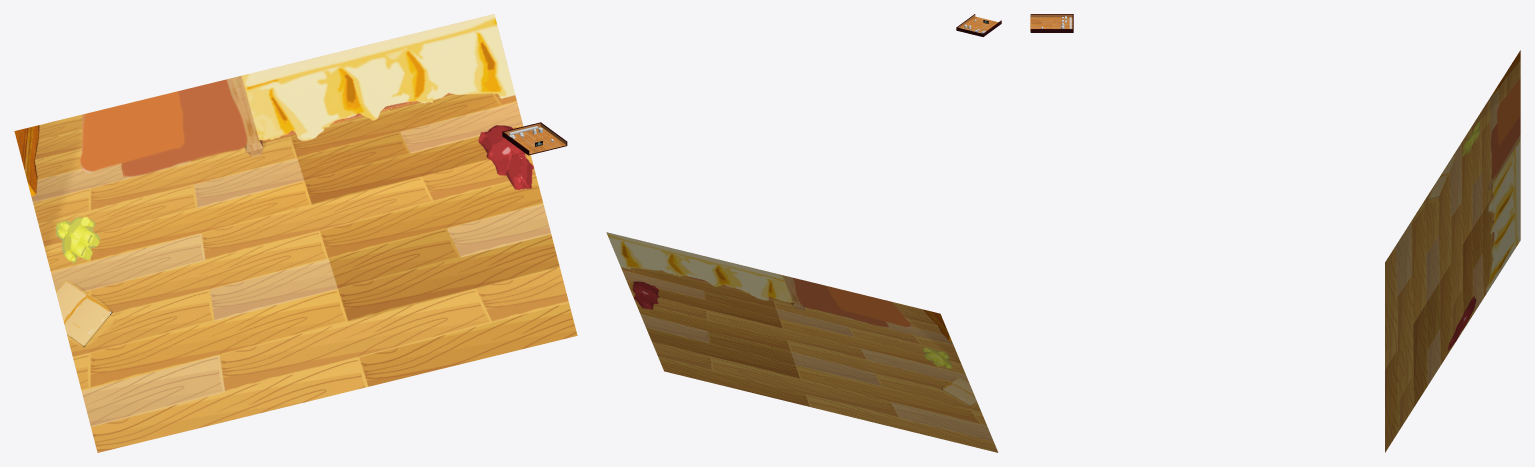
The model's file is SceneComposition.FBX.
The picture shows the model from 3 angles, left to right: view 1: azimuth 30°, elevation 25°; view 2: azimuth 150°, elevation 25°; view 3: azimuth 270°, elevation 25°; orthographic projection. The views are drawn at different scales.
Visible parts, largest first — view 1: ID1076; view 2: ID1076; view 3: ID1076.
Boxes of the visible parts, x1,y1,x2,y2 form: ID1076: [14, 14, 577, 452]; ID1076: [606, 14, 1001, 452]; ID1076: [1030, 14, 1520, 452].
Bounding box in the file's own units: 11350 × 9282 × 12332.
Materials: 6 (4 with a texture image).
